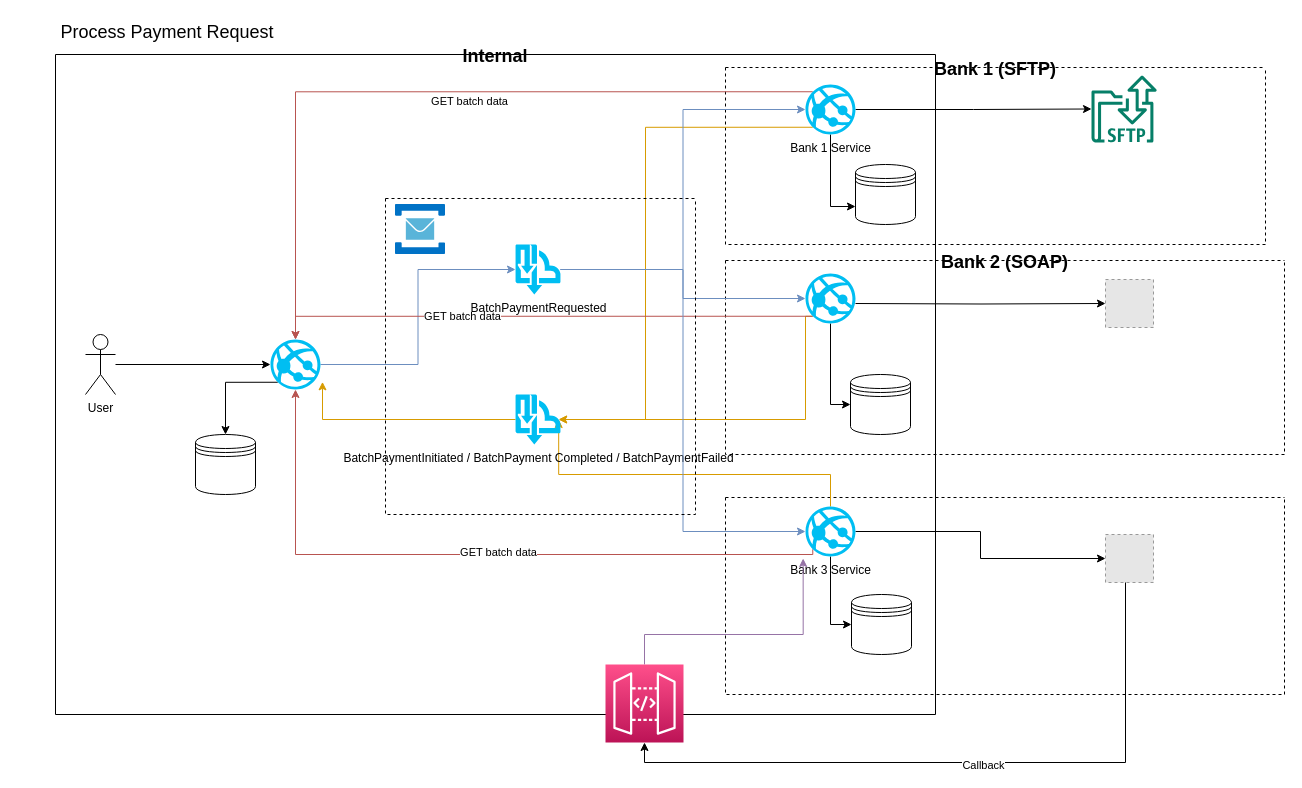
Image size: 1302x788. Some labels were removed from this diagram. Grey dashed boxes stand in for pictures. The shapes that lost their labels are listed below. From the top down, each one's box as (x1, y1, x2, y2) in pixels, then its label:
(805, 273, 855, 323): Bank 2 Service
(270, 339, 320, 389): Payment request system
(724, 496, 1284, 694): Bank 3 (HTTP POST w callback)
(604, 664, 684, 742): API Gateway
